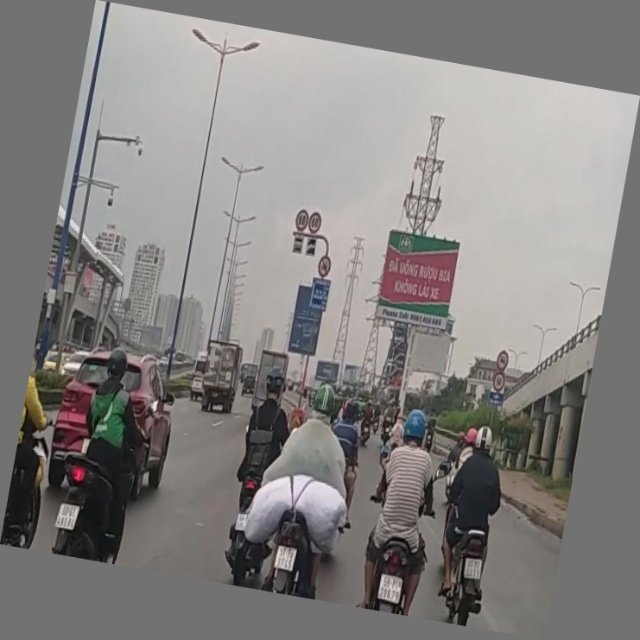P.103a: (495, 349, 510, 371)
P.104: (317, 254, 335, 277)
P.127*50: (492, 373, 507, 393)
P.127*60: (307, 211, 323, 235)
P.127*80: (294, 209, 309, 232)
